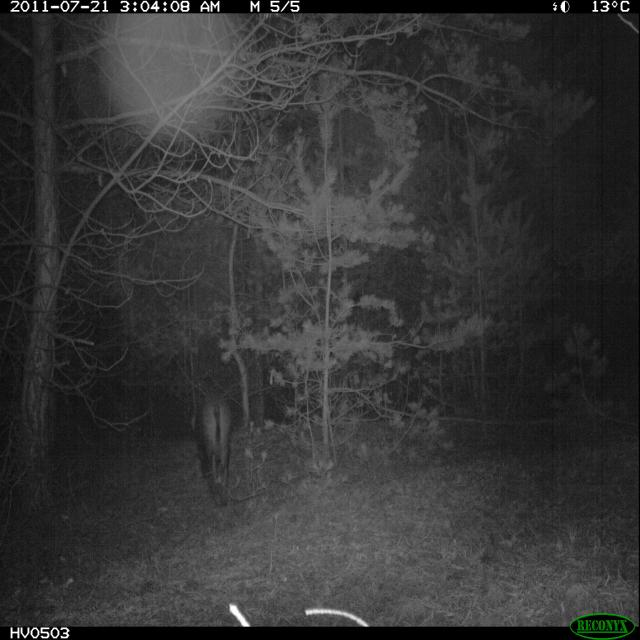boar: (180, 360, 254, 494)
